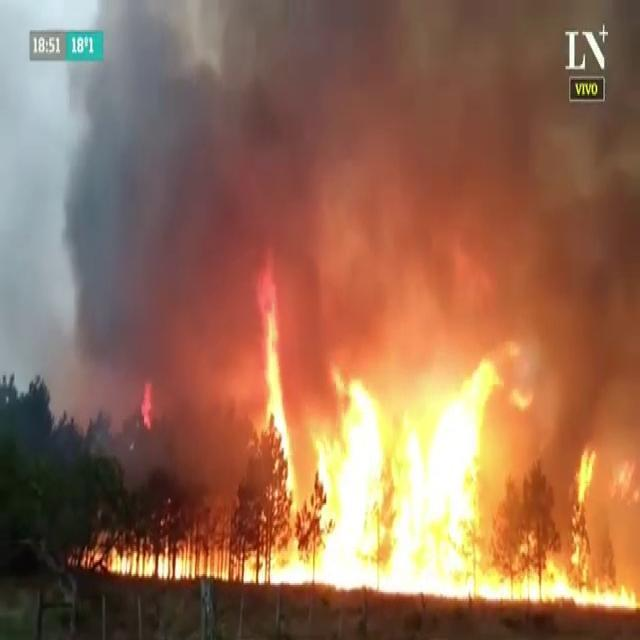Fire: (421, 358, 637, 610), (313, 360, 386, 588), (62, 529, 246, 594), (258, 287, 302, 493), (60, 550, 82, 580), (110, 541, 120, 575), (188, 557, 198, 585), (86, 552, 98, 574), (214, 548, 222, 578), (129, 542, 136, 576), (172, 552, 178, 590), (152, 544, 156, 586)
Smoke: (42, 0, 631, 533)
